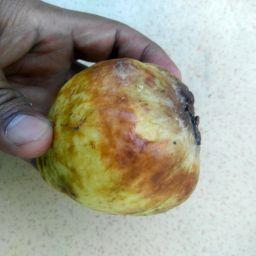guava: (19, 56, 201, 218)
